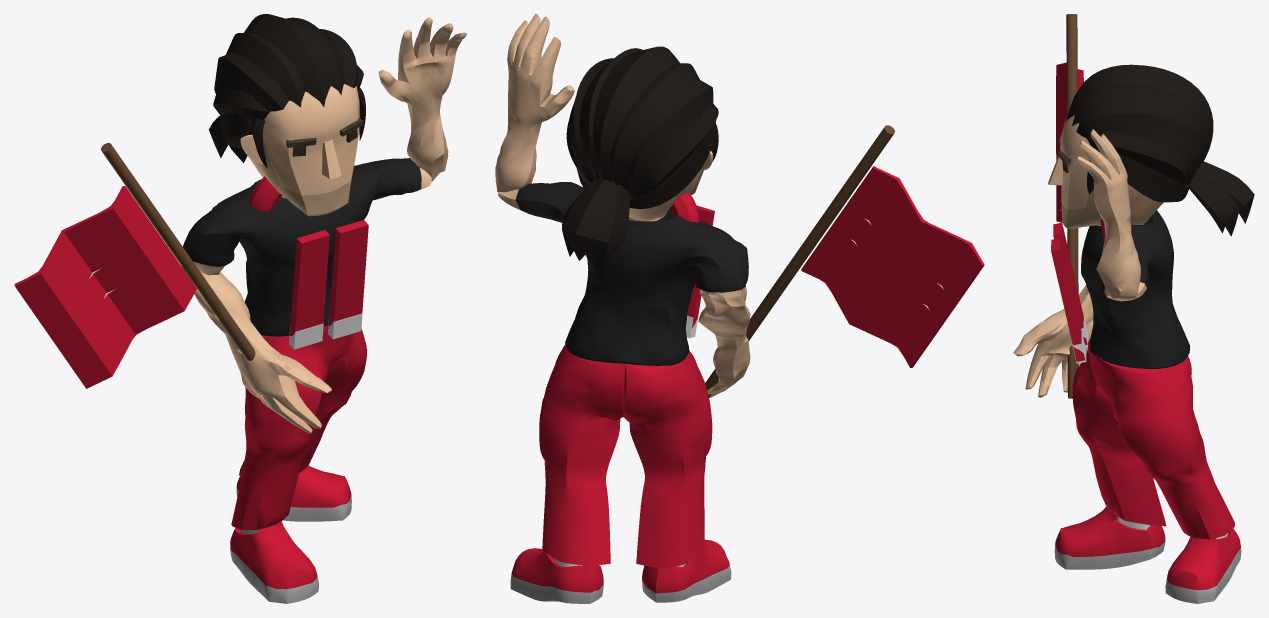
File: av-torcedor-arquibancada.glb
3 renders of one model, left to right at view 1: azimuth 30°, elevation 25°; view 2: azimuth 150°, elevation 25°; view 3: azimuth 270°, elevation 25°, orthographic. The views are drawn at different scales.
Parts seen in each view (by area): view 1: Ad_bandeira_1_0; view 2: Ad_bandeira_1_0; view 3: Ad_bandeira_1_0.
Boxes of the visible parts, x1=… form: Ad_bandeira_1_0: x1=14, y1=14, x2=466, y2=603; Ad_bandeira_1_0: x1=495, y1=14, x2=984, y2=603; Ad_bandeira_1_0: x1=1013, y1=14, x2=1254, y2=603.
Size of the model in its own units: 1.22 by 1.38 by 0.5938.
Materials: 1 (1 with a texture image).
